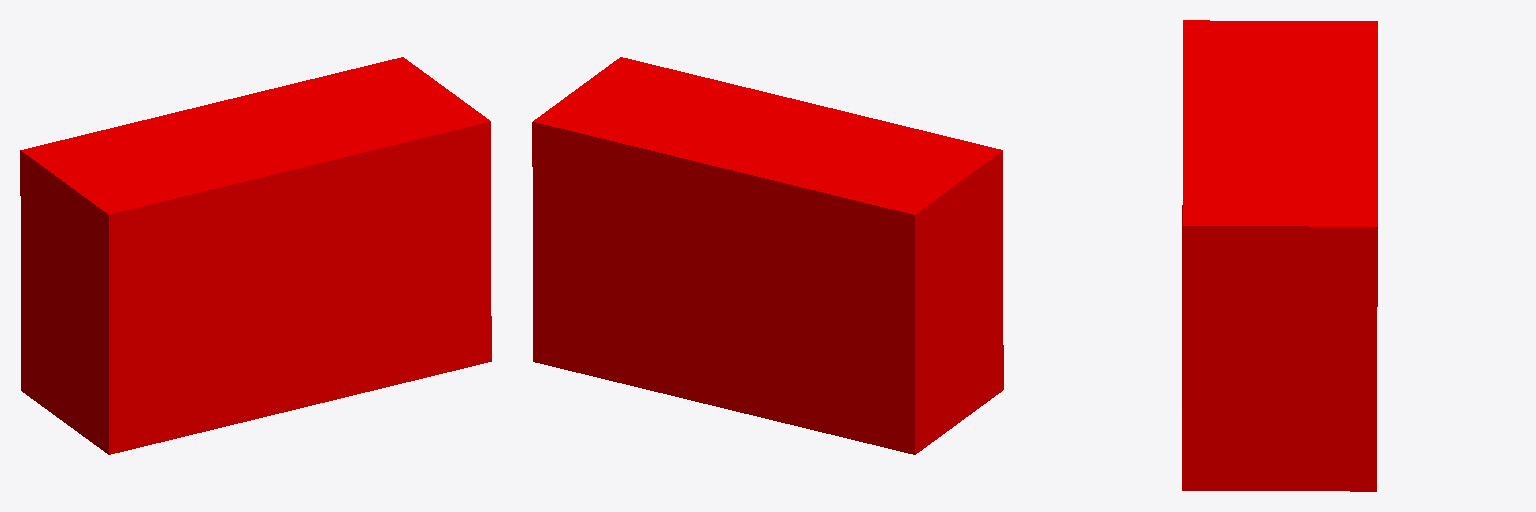
The robot description file, URDF, robot "four_diff_drive":
<?xml version="1.0" ?>
<!-- =================================================================================== -->
<!-- |    This document was autogenerated by xacro from four_diff_drive.xacro          | -->
<!-- |    EDITING THIS FILE BY HAND IS NOT RECOMMENDED                                 | -->
<!-- =================================================================================== -->
<robot name="four_diff_drive">

  <material name="silver">
    <color rgba="0.700 0.700 0.700 1.000"/>
  </material>
  <!-- new material added - [author] -->
  <material name="red">
    <color rgba="255 0 0 0.5"/>
  </material>

  <transmission name="fr_joint_tran">
    <type>transmission_interface/SimpleTransmission</type>
    <joint name="fr_joint">
      <hardwareInterface>hardware_interface/EffortJointInterface</hardwareInterface>
    </joint>
    <actuator name="fr_joint_actr">
      <hardwareInterface>hardware_interface/EffortJointInterface</hardwareInterface>
      <mechanicalReduction>1</mechanicalReduction>
    </actuator>
  </transmission>
  <transmission name="fl_joint_tran">
    <type>transmission_interface/SimpleTransmission</type>
    <joint name="fl_joint">
      <hardwareInterface>hardware_interface/EffortJointInterface</hardwareInterface>
    </joint>
    <actuator name="fl_joint_actr">
      <hardwareInterface>hardware_interface/EffortJointInterface</hardwareInterface>
      <mechanicalReduction>1</mechanicalReduction>
    </actuator>
  </transmission>
  <transmission name="rr_joint_tran">
    <type>transmission_interface/SimpleTransmission</type>
    <joint name="rr_joint">
      <hardwareInterface>hardware_interface/EffortJointInterface</hardwareInterface>
    </joint>
    <actuator name="rr_joint_actr">
      <hardwareInterface>hardware_interface/EffortJointInterface</hardwareInterface>
      <mechanicalReduction>1</mechanicalReduction>
    </actuator>
  </transmission>
  <transmission name="rl_joint_tran">
    <type>transmission_interface/SimpleTransmission</type>
    <joint name="rl_joint">
      <hardwareInterface>hardware_interface/EffortJointInterface</hardwareInterface>
    </joint>
    <actuator name="rl_joint_actr">
      <hardwareInterface>hardware_interface/EffortJointInterface</hardwareInterface>
      <mechanicalReduction>1</mechanicalReduction>
    </actuator>
  </transmission>

  <!--<gazebo>
    <plugin filename="libign_ros2_control-system.so" name="control"/>
  </gazebo> -->

  <gazebo reference="base_link">
    <material>Gazebo/Silver</material>
    <mu1>0.2</mu1>
    <mu2>0.2</mu2>
    <self_collide>true</self_collide>
    <gravity>true</gravity>
  </gazebo>
  <gazebo reference="fr_wheel_1_1">
    <material>Gazebo/Silver</material>
    <mu1>0.2</mu1>
    <mu2>0.2</mu2>
    <self_collide>true</self_collide>
  </gazebo>
  <gazebo reference="fl_wheel_1_1">
    <material>Gazebo/Silver</material>
    <mu1>0.2</mu1>
    <mu2>0.2</mu2>
    <self_collide>true</self_collide>
  </gazebo>
  <gazebo reference="rr_wheel_1_1">
    <material>Gazebo/Silver</material>
    <mu1>0.2</mu1>
    <mu2>0.2</mu2>
    <self_collide>true</self_collide>
  </gazebo>
  <gazebo reference="rl_wheel_1_1">
    <material>Gazebo/Silver</material>
    <mu1>0.2</mu1>
    <mu2>0.2</mu2>
    <self_collide>true</self_collide>
  </gazebo>

  <link name="map"/>
  <link name="odom"/> <!-- changed to seee the implementation of map making -->
  <link name="base_link">   <!-- changed z as +0.1 in inertial, visual, collision in base and 4 wheel links - [author] -->
    <inertial>
      <origin rpy="0 0 0" xyz="0.38933319773372493 0.025457111892628326 0.14121510359167855"/>
      <mass value="109.04860734197118"/>
      <inertia ixx="13.295168" ixy="-0.010501" ixz="0.044683" iyy="14.356455" iyz="0.671179" izz="2.822404"/>
    </inertial>
    <visual>
      <origin rpy="0 0 0" xyz="0 0 0"/>
      <geometry>
        <mesh filename="file://[local-path]/Desktop/IAST_stuff_2_test_lidar/install/four_diff_drive_description/share/four_diff_drive_description/meshes/base_link.stl" scale="0.001 0.001 0.001"/>
      </geometry>
      <material name="silver"/>
    </visual>
    <collision>
      <origin rpy="0 0 0" xyz="0 0 0"/>
      <geometry>
        <mesh filename="file://[local-path]/Desktop/IAST_stuff_2_test_lidar/install/four_diff_drive_description/share/four_diff_drive_description/meshes/base_link.stl" scale="0.001 0.001 0.001"/>
      </geometry>
    </collision>
  </link>
  <link name="fr_wheel_1_1">
    <inertial>
      <origin rpy="0 0 0" xyz="-0.0006678192662164517 7.879899210916363e-08 -5.297525051961571e-08"/>  <!-- z: -5.297525051961571e-08 to -0.628175 : [author]-->
      <mass value="13.66073272140364"/>
      <inertia ixx="0.11786" ixy="-0.0" ixz="0.0" iyy="0.062234" iyz="0.0" izz="0.062234"/>
    </inertial>
    <visual>
      <origin rpy="0 0 0" xyz="-0.177234 0.134788 -0.628175"/>
      <geometry>
        <mesh filename="file://[local-path]/Desktop/IAST_stuff_2_test_lidar/install/four_diff_drive_description/share/four_diff_drive_description/meshes/fr_wheel_1_1.stl" scale="0.001 0.001 0.001"/>
      </geometry>
      <material name="silver"/>
    </visual>
    <collision>
      <origin rpy="0 0 0" xyz="-0.177234 0.134788 -0.628175"/>
      <geometry>
        <mesh filename="file://[local-path]/Desktop/IAST_stuff_2_test_lidar/install/four_diff_drive_description/share/four_diff_drive_description/meshes/fr_wheel_1_1.stl" scale="0.001 0.001 0.001"/>
      </geometry>
    </collision>
  </link>
  <link name="fl_wheel_1_1">
    <inertial>
      <origin rpy="0 0 0" xyz="0.0006669561985305217 1.5491755467333945e-07 -1.2909381374992535e-07"/>  <!-- changed z: -1.2909381374992535e-07 to -0.628175 : [author]-->
      <mass value="13.660732721403573"/>
      <inertia ixx="0.11786" ixy="-0.0" ixz="0.0" iyy="0.062234" iyz="0.0" izz="0.062234"/>
    </inertial>
    <visual>
      <origin rpy="0 0 0" xyz="-0.599734 0.134788 -0.628175"/>
      <geometry>
        <mesh filename="file://[local-path]/Desktop/IAST_stuff_2_test_lidar/install/four_diff_drive_description/share/four_diff_drive_description/meshes/fl_wheel_1_1.stl" scale="0.001 0.001 0.001"/>
      </geometry>
      <material name="silver"/>
    </visual>
    <collision>
      <origin rpy="0 0 0" xyz="-0.599734 0.134788 -0.628175"/>
      <geometry>
        <mesh filename="file://[local-path]/Desktop/IAST_stuff_2_test_lidar/install/four_diff_drive_description/share/four_diff_drive_description/meshes/fl_wheel_1_1.stl" scale="0.001 0.001 0.001"/>
      </geometry>
    </collision>
  </link>
  <link name="rr_wheel_1_1">
    <inertial>
      <origin rpy="0 0 0" xyz="-0.0006678192662164517 1.9850436036583652e-07 -1.2911571540402678e-07"/>  <!-- changed z: -1.2911571540402678e-07 to 0.038075 : [author]-->
      <mass value="13.660732721403626"/>
      <inertia ixx="0.11786" ixy="-0.0" ixz="-0.0" iyy="0.062234" iyz="-0.0" izz="0.062234"/>
    </inertial>
    <visual>
      <origin rpy="0 0 0" xyz="-0.177234 0.134788 0.038075"/>
      <geometry>
        <mesh filename="file://[local-path]/Desktop/IAST_stuff_2_test_lidar/install/four_diff_drive_description/share/four_diff_drive_description/meshes/rr_wheel_1_1.stl" scale="0.001 0.001 0.001"/>
      </geometry>
      <material name="silver"/>
    </visual>
    <collision>
      <origin rpy="0 0 0" xyz="-0.177234 0.134788 0.038075"/>
      <geometry>
        <mesh filename="file://[local-path]/Desktop/IAST_stuff_2_test_lidar/install/four_diff_drive_description/share/four_diff_drive_description/meshes/rr_wheel_1_1.stl" scale="0.001 0.001 0.001"/>
      </geometry>
    </collision>
  </link>
  <link name="rl_wheel_1_1">
    <inertial>
      <origin rpy="0 0 0" xyz="0.0006669561985307437 1.5491755470109503e-07 -1.291157157232159e-07"/>  <!-- changed z: -1.291157157232159e-07 to 0.038075 : [author]-->
      <mass value="13.660732721403523"/>
      <inertia ixx="0.11786" ixy="-0.0" ixz="0.0" iyy="0.062234" iyz="0.0" izz="0.062234"/>
    </inertial>
    <visual>
      <origin rpy="0 0 0" xyz="-0.599734 0.134788 0.038075"/>
      <geometry>
        <mesh filename="file://[local-path]/Desktop/IAST_stuff_2_test_lidar/install/four_diff_drive_description/share/four_diff_drive_description/meshes/rl_wheel_1_1.stl" scale="0.001 0.001 0.001"/>
      </geometry>
      <material name="silver"/>
    </visual>
    <collision>
      <origin rpy="0 0 0" xyz="-0.599734 0.134788 0.038075"/>
      <geometry>
        <mesh filename="file://[local-path]/Desktop/IAST_stuff_2_test_lidar/install/four_diff_drive_description/share/four_diff_drive_description/meshes/rl_wheel_1_1.stl" scale="0.001 0.001 0.001"/>
      </geometry>
    </collision>
  </link>
  
  <!-- new code added for lidar link - [author], 18/11/2024 -->
  <link name="laser_frame">
     <visual>
        <geometry>
          <box size="0.05 0.03 0.02"/>
        </geometry>
        <material name="red"/>
     </visual>
     <collision>
        <geometry>
          <box size="0.05 0.03 0.02"/>
        </geometry>
     </collision>
  </link>
  <!-- new code added upto -->

  
 
  <joint name="map_frame" type="fixed">
    <origin rpy="0 0 0" xyz="0.0 0.0 0.0"/> <!-- rpy = 0 0 0 from 1.57 0 0 to keep it forward on the ground >> [author], changed z: 0.0 to 0.245 to 0.0- [author] -->
    <parent link="map"/>  <!-- changed world_link to map-->
    <child link="odom"/>
  </joint>
  
   
 <joint name="odom_frame" type="fixed">    <!--fixed-->
    <origin rpy="0 0 0" xyz="0.0 0.0 0.0"/>  <!-- z changed from 0.628175 to 1.028175, x: 0.599734 to 0.999734, y: -0.134788 to -0.434788 - [author]-->
    <parent link="odom"/>
    <child link="base_link"/>  <!--0.599734 -0.134788 1.028175-->
  </joint>

   <!-- new code added for lidar to base_link joint - [author], 18/11/2024 -->
  <joint name="laser_joint" type="fixed">
    <origin rpy="1.57 0 0" xyz="0.405 -0.05 0.88"/>  <!-- z changed from 0.628175 to 1.028175, x: 0.599734 to 0.999734, y: -0.134788 to -0.434788 - [author]-->
    <parent link="base_link"/>
    <child link="laser_frame"/>
  </joint>
   <!-- new code upto -->

  <joint name="fr_wheel_joint" type="continuous">
    <origin rpy="0 0 0" xyz="0.177234 -0.134788 0.628175"/>
    <parent link="base_link"/>
    <child link="fr_wheel_1_1"/>
    <axis xyz="1.0 0.0 0.0"/>
  </joint>
  <joint name="fl_wheel_joint" type="continuous">
    <origin rpy="0 0 0" xyz="0.599734 -0.134788 0.628175"/>
    <parent link="base_link"/>
    <child link="fl_wheel_1_1"/>
    <axis xyz="1.0 0.0 0.0"/>
  </joint>
  <joint name="rr_wheel_joint" type="continuous">
    <origin rpy="0 0 0" xyz="0.177234 -0.134788 -0.038075"/>
    <parent link="base_link"/>
    <child link="rr_wheel_1_1"/>
    <axis xyz="1.0 0.0 0.0"/>
  </joint>
  <joint name="rl_wheel_joint" type="continuous">
    <origin rpy="0 0 0" xyz="0.599734 -0.134788 -0.038075"/>
    <parent link="base_link"/>
    <child link="rl_wheel_1_1"/>
    <axis xyz="1.0 0.0 0.0"/>
  </joint>


  <ros2_control name="IgnitionSystem" type="system">
    <hardware>
      <plugin>ign_ros2_control/IgnitionSystem</plugin>
    </hardware>
    <joint name="fr_wheel_joint">
      <command_interface name="velocity"/>
      <state_interface name="position"/>
      <state_interface name="velocity"/>
    </joint>
    <joint name="fl_wheel_joint">
      <command_interface name="velocity"/>
      <state_interface name="position"/>
      <state_interface name="velocity"/>
    </joint>
    <joint name="rr_wheel_joint">
      <command_interface name="velocity"/>
      <state_interface name="position"/>
      <state_interface name="velocity"/>
    </joint>
    <joint name="rl_wheel_joint">
      <command_interface name="velocity"/>
      <state_interface name="position"/>
      <state_interface name="velocity"/>
    </joint>
  </ros2_control>
  
  <!-- <gazebo> -->
      <gazebo>
<!-- Global odometer plugin -->   
    <plugin
      filename="ignition-gazebo-odometry-publisher-system"
      name="ignition::gazebo::systems::OdometryPublisher">
      <odom_publish_frequency>50</odom_publish_frequency>
      <odom_topic>/odom</odom_topic>
      <odom_frame>odom</odom_frame>   <!--changed from odom to map-->
      <robot_base_frame>base_link</robot_base_frame>
      <tf_topic>/odom/tf</tf_topic>
    </plugin>                                                                                                                                                                                                                                                                                                                                                                                                                                                                    
    <!-- Diff drive controller plugin -->
    <plugin filename="gz-sim-diff-drive-system" name="gz::sim::systems::DiffDrive">
   <!-- wheels -->
      <right_joint>fr_wheel_joint</right_joint>
      <left_joint>fl_wheel_joint</left_joint>
      <right_joint>rr_wheel_joint</right_joint>
      <left_joint>rl_wheel_joint</left_joint>
      <frame_id>odom</frame_id>   <!--changed from odom to map-->
      <child_frame_id>base_link</child_frame_id>
      <topic>/cmd_vel</topic> 
      <odom_topic>/odom</odom_topic>
      </plugin>
      <!--  -->
     
      <!--<odom_publisher_frequency>30</odom_publisher_frequency> -->
      <!-- <tf_topic>/tf</tf_topic>  -->  <!--commented out to test- [author]-->
      

      <!-- Joint group velocity controller plugin -->
      <plugin filename="ignition-gazebo-joint-group-velocity-controller-system"
            name="joint_group_velocity_controller">
         
        <joint_name>fr_wheel_joint</joint_name>
        <joint_name>fl_wheel_joint</joint_name>
        <joint_name>rr_wheel_joint</joint_name>
        <joint_name>rl_wheel_joint</joint_name>
        
        <topic>/joint_group_velocity_controller/commands</topic>
        <update_rate>30</update_rate>   
      </plugin>
    </gazebo>

    <!-- new code added for lidar gazebo reference sensor - [author], 18/11/2024 -->
    <gazebo reference="laser_frame">
      <material>Gazebo/Red</material>

      <sensor name="gpu_lidar" type="gpu_lidar">
         <pose>0 0 0 0 0 0</pose>
         <topic>scan</topic>
         <ignition_frame_id>laser_frame</ignition_frame_id>
         <visualize>true</visualize>
         <update_rate>10</update_rate>
         <ray>
            <scan>
              <horizontal>
                <samples>360</samples>
                <min_angle>-3.14</min_angle>
                <max_angle>3.14</max_angle>
              </horizontal>
            </scan>
            <range>
              <min>0.2</min>
              <max>20</max>
            </range>
         </ray>
         <plugin name="gz::sim::systems::Sensors" filename="gz-sim-sensors-system"> 
          <!-- <frame_name>laser_frame</frame_name>    -->
          <!-- <output_type>sensor_msgs/msg/LaserScan</output_type> -->
        </plugin>
        
        <point_cloud_topic>/scan/points</point_cloud_topic>
       
      </sensor>
      
   </gazebo>
  </robot>


  <!-- <plugin filename="gz-sim-joint-state-publisher-system"
  name="gz::sim::systems::JointStatePublisher">
     <topic>/joint_states</topic> 
     <joint_name>fr_wheel_joint</joint_name>
     <joint_name>fl_wheel_joint</joint_name>
     <joint_name>rr_wheel_joint</joint_name>
     <joint_name>rl_wheel_joint</joint_name>
  </plugin>-->

<!--   
  from <odometry_frame> changed from world_link to odom to map
       changed from base_link to odom -->


  

--- Render facts (derived) ---
Views: 3 orthographic renders of the robot side by side, from view 1: azimuth 30°, elevation 25°; view 2: azimuth 150°, elevation 25°; view 3: azimuth 270°, elevation 25°.
Robot: four_diff_drive — 8 links, 7 joints (4 continuous, 3 fixed); root link map; default pose: all joints at 0.
Links seen in each view (by area): view 1: laser_frame; view 2: laser_frame; view 3: laser_frame.
Link boxes in pixels (box(x1,y1,x2,y2)): laser_frame: box(20, 57, 491, 454); laser_frame: box(532, 57, 1003, 454); laser_frame: box(1182, 20, 1377, 491).
Bounding box of the posed robot: 0.05 × 0.02 × 0.03 m (x, y, z).
Geometry: only primitive shapes (box / cylinder / sphere) drawn; not drawn: 5 mesh visuals (reference in a form the renderer does not follow).